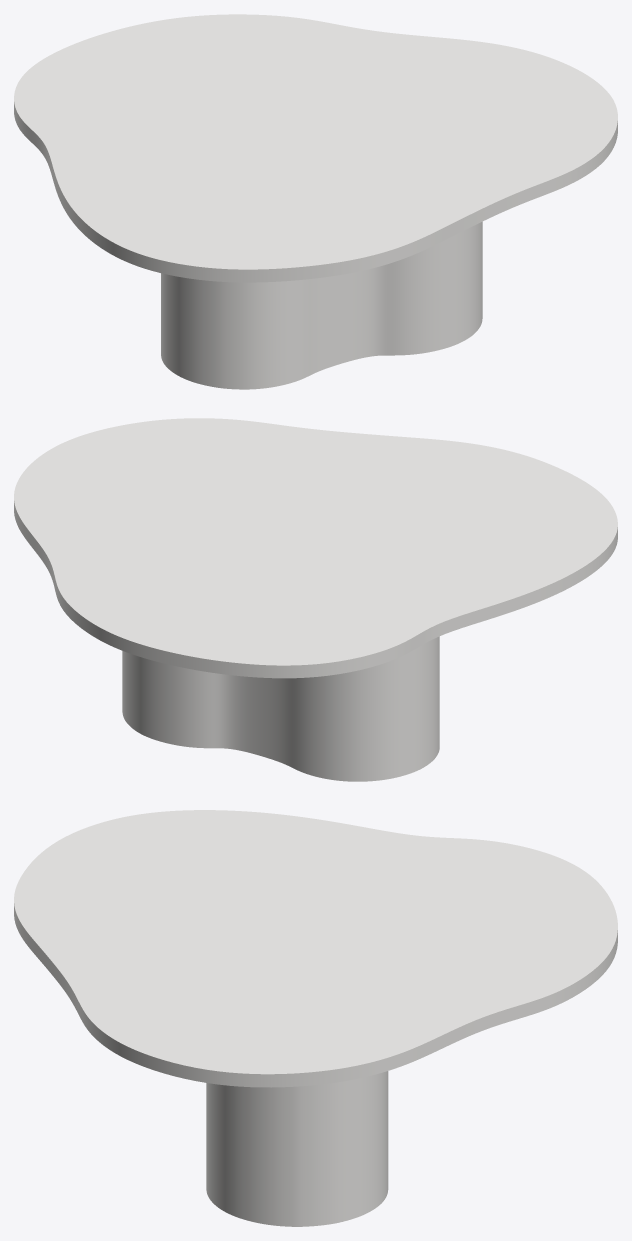
The model's file is purewhite_topone_standard_riverwave.glb.
3 views of the same model, one above another, from view 1: azimuth 30°, elevation 25°; view 2: azimuth 150°, elevation 25°; view 3: azimuth 270°, elevation 25° (orthographic). The views are drawn at different scales.
Parts seen in each view (by area): view 1: standard_topone, riverwave; view 2: standard_topone, riverwave; view 3: standard_topone, riverwave.
Boxes of the visible parts, box(x1,y1,x2,y2) form: standard_topone: box(14, 14, 617, 282); riverwave: box(161, 221, 482, 389); standard_topone: box(14, 418, 617, 678); riverwave: box(122, 636, 439, 781); standard_topone: box(14, 810, 617, 1087); riverwave: box(206, 1071, 388, 1226).
Size of the model in its own units: 6.83 by 2.5 by 6.6.
Materials: 1 (1 with a texture image).
